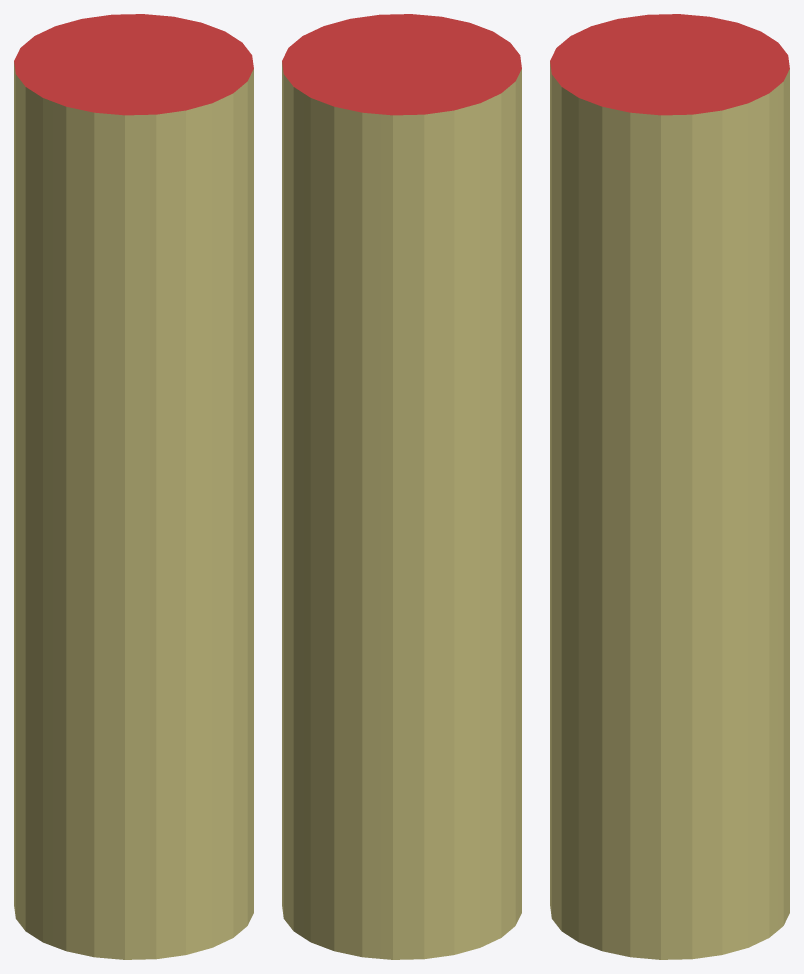
3 views of the same model, side by side, from view 1: azimuth 30°, elevation 25°; view 2: azimuth 150°, elevation 25°; view 3: azimuth 270°, elevation 25° (orthographic).
Size of the model in its own units: 2.04 by 2.04 by 7.92.
